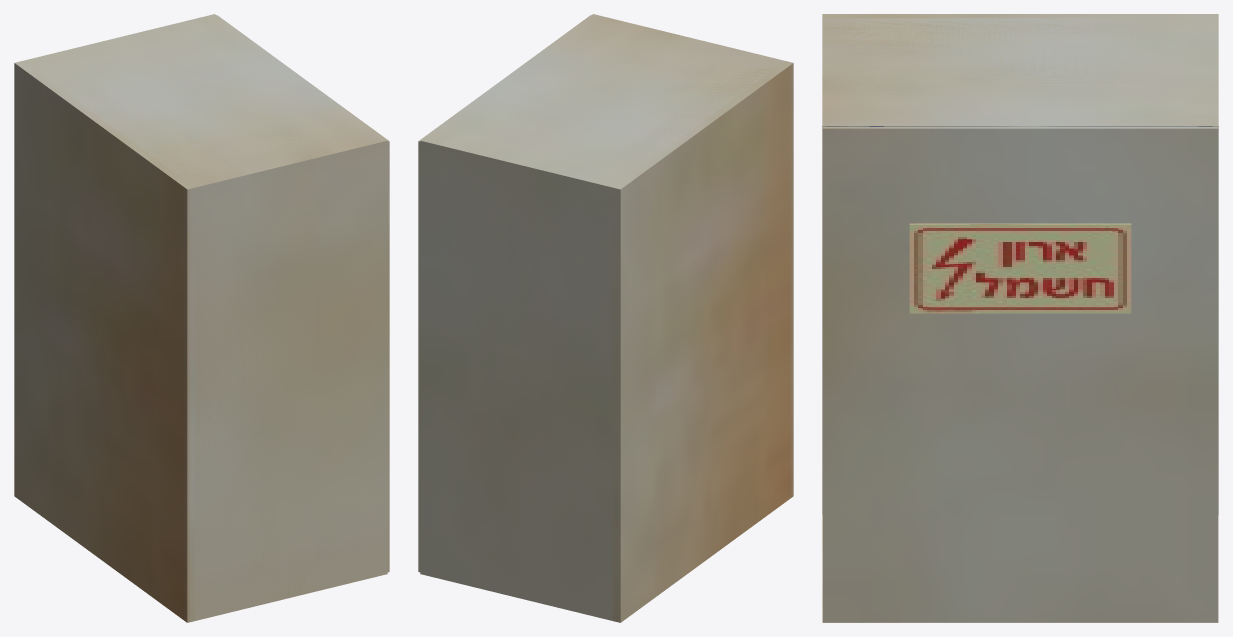
The model's file is PowerCloset.fbx.
The picture shows the model from 3 angles, left to right: view 1: azimuth 30°, elevation 25°; view 2: azimuth 150°, elevation 25°; view 3: azimuth 270°, elevation 25°; orthographic projection. The views are drawn at different scales.
Parts seen in each view (by area): view 1: Cube, Cube.002; view 2: Cube, Cube.002; view 3: Cube.002, Cube, Cube.003.
Boxes of the visible parts, x1=… form: Cube: x1=14, y1=14, x2=387, y2=622; Cube.002: x1=217, y1=15, x2=389, y2=572; Cube: x1=420, y1=14, x2=793, y2=622; Cube.002: x1=418, y1=15, x2=590, y2=572; Cube.002: x1=823, y1=126, x2=1217, y2=622; Cube: x1=822, y1=14, x2=1218, y2=622; Cube.003: x1=909, y1=223, x2=1131, y2=313.
Bounding box in the file's own units: 203 × 413 × 299.
4 materials, 4 textured.
